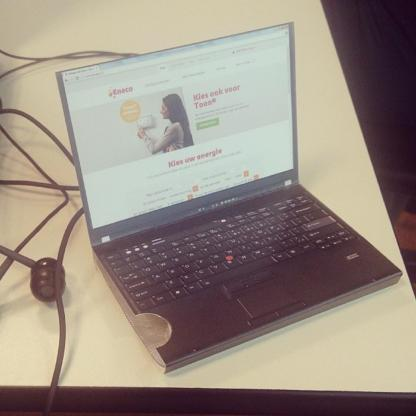board: (52, 20, 402, 374)
